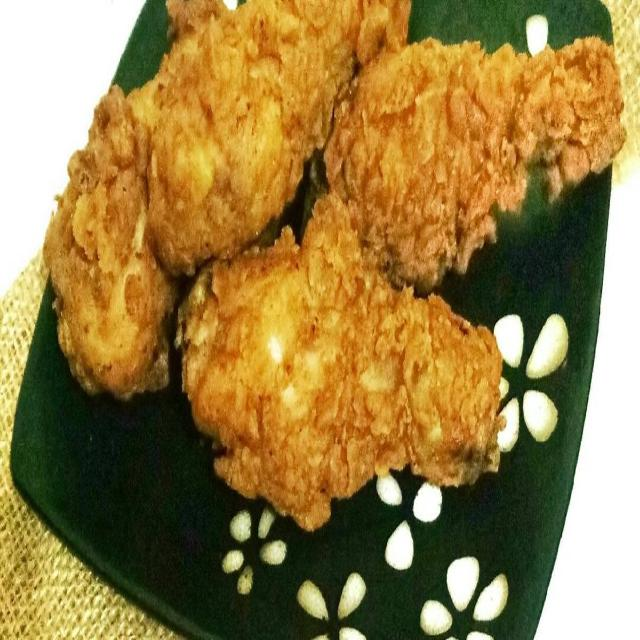Frango: (43, 0, 411, 393), (183, 229, 500, 520), (335, 15, 621, 288)
